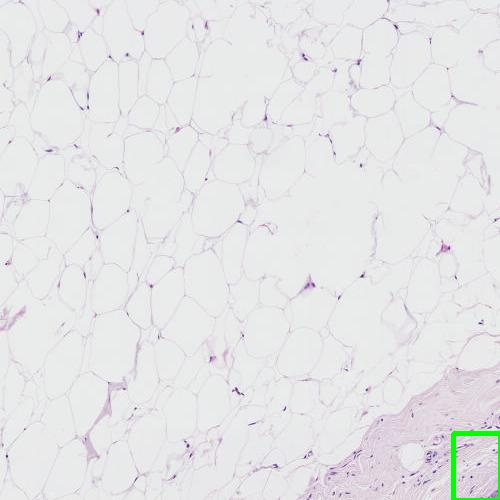DCIS: (453, 433, 500, 500)
